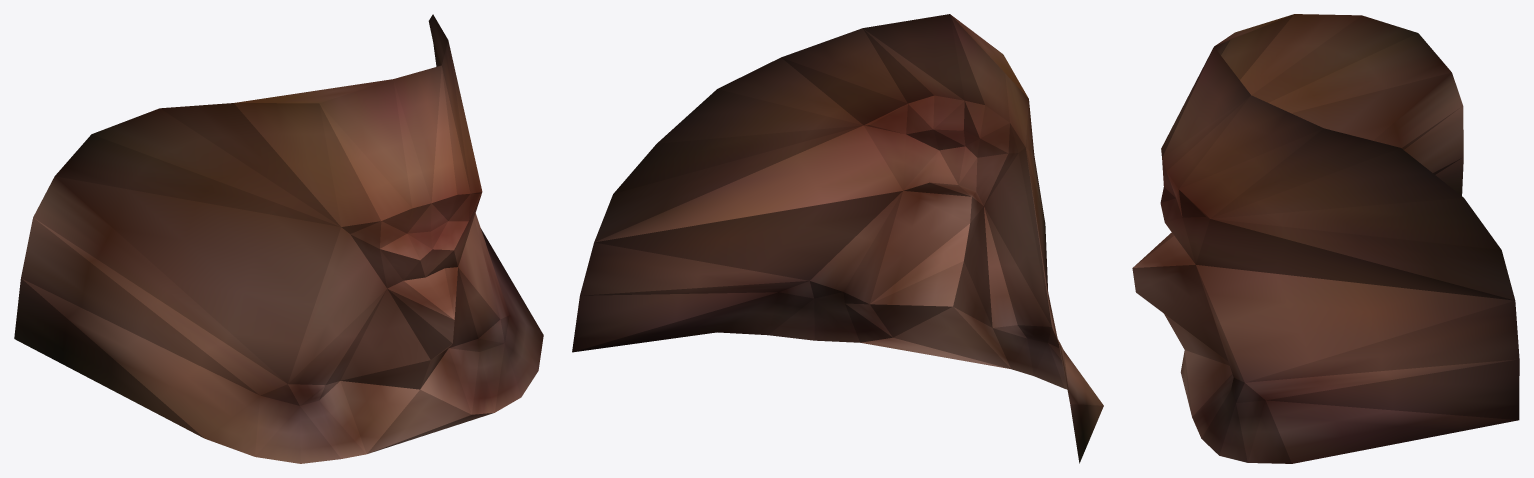
The model's file is real_51392.obj.
The picture shows the model from 3 angles, left to right: view 1: azimuth 30°, elevation 25°; view 2: azimuth 150°, elevation 25°; view 3: azimuth 270°, elevation 25°; orthographic projection. The views are drawn at different scales.
Bounding box in the file's own units: 119 × 85 × 86.06.
